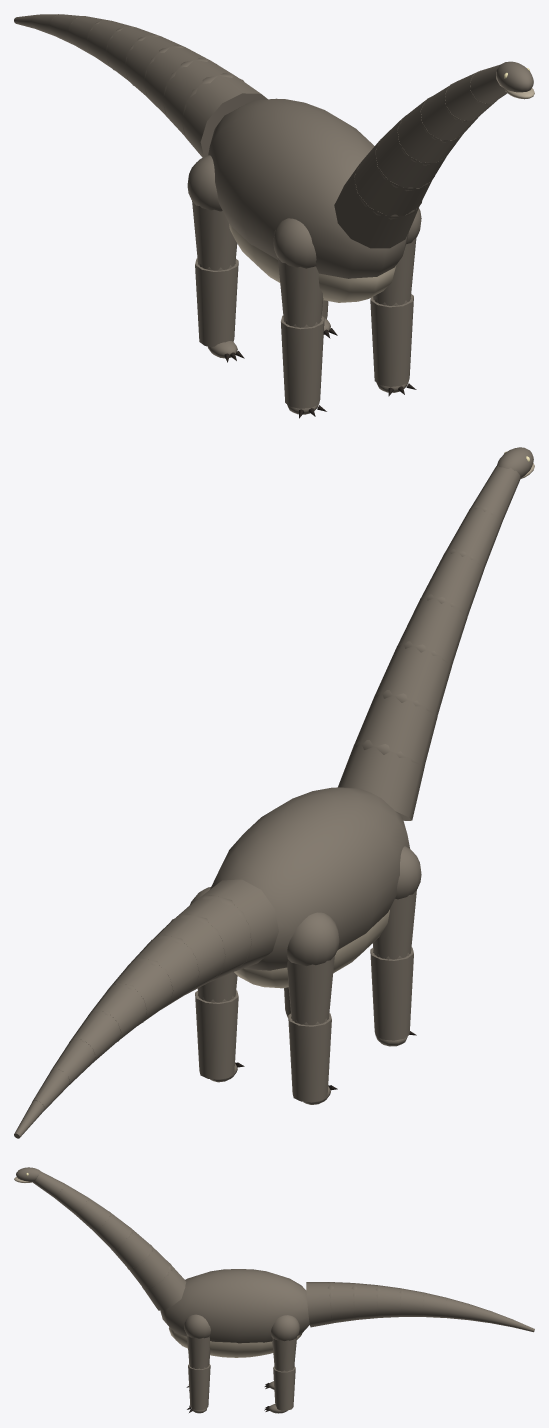
File: dino_titan.glb
3 views of the same model, one above another, from view 1: azimuth 30°, elevation 25°; view 2: azimuth 150°, elevation 25°; view 3: azimuth 270°, elevation 25° (orthographic). The views are drawn at different scales.
Parts seen in each view (by area): view 1: dino_hips, dino_legs_0_hip, dino_legs_2_hip, dino_legs_0_knee, dino_legs_1_knee, dino_tail_0_p, dino_legs_2_knee, dino_neck_0_p, dino_neck_1_p, dino_neck_2_p, dino_tail_1_p, dino_neck_3_p (+11 smaller); view 2: dino_hips, dino_legs_2_hip, dino_neck_1_p, dino_neck_0_p, dino_neck_2_p, dino_legs_0_knee, dino_legs_2_knee, dino_legs_3_knee, dino_neck_3_p, dino_legs_0_hip, dino_tail_0_p, dino_tail_1_p (+11 smaller); view 3: dino_hips, dino_legs_3_hip, dino_legs_1_hip, dino_tail_0_p, dino_neck_0_p, dino_neck_1_p, dino_tail_1_p, dino_legs_1_knee, dino_neck_2_p, dino_tail_2_p, dino_legs_3_knee, dino_neck_3_p (+8 smaller).
Part boxes in pixels (<box>): dino_hips: <box>208,98,408,302</box>; dino_legs_0_hip: <box>273,218,323,327</box>; dino_legs_2_hip: <box>187,155,237,270</box>; dino_legs_0_knee: <box>281,315,324,408</box>; dino_legs_1_knee: <box>370,294,413,386</box>; dino_tail_0_p: <box>181,75,267,157</box>; dino_legs_2_knee: <box>195,258,238,347</box>; dino_neck_0_p: <box>334,164,419,248</box>; dino_neck_1_p: <box>354,139,431,219</box>; dino_neck_2_p: <box>374,118,446,190</box>; dino_tail_1_p: <box>162,60,244,135</box>; dino_neck_3_p: <box>396,100,462,165</box>; dino_hips: <box>210,787,409,988</box>; dino_legs_2_hip: <box>287,912,339,1025</box>; dino_neck_1_p: <box>354,693,437,769</box>; dino_neck_0_p: <box>338,744,424,820</box>; dino_neck_2_p: <box>375,644,451,718</box>; dino_legs_0_knee: <box>370,947,413,1040</box>; dino_legs_2_knee: <box>288,1013,331,1102</box>; dino_legs_3_knee: <box>195,990,238,1079</box>; dino_neck_3_p: <box>398,596,467,668</box>; dino_legs_0_hip: <box>372,846,421,959</box>; dino_tail_0_p: <box>201,879,278,972</box>; dino_tail_1_p: <box>168,895,252,982</box>; dino_hips: <box>160,1269,309,1357</box>; dino_legs_3_hip: <box>271,1315,299,1371</box>; dino_legs_1_hip: <box>184,1314,210,1369</box>; dino_tail_0_p: <box>306,1282,333,1327</box>; dino_neck_0_p: <box>143,1266,186,1310</box>; dino_neck_1_p: <box>128,1247,172,1290</box>; dino_tail_1_p: <box>328,1282,355,1322</box>; dino_legs_1_knee: <box>188,1364,210,1410</box>; dino_neck_2_p: <box>111,1229,152,1269</box>; dino_tail_2_p: <box>351,1283,377,1319</box>; dino_legs_3_knee: <box>273,1366,295,1410</box>; dino_neck_3_p: <box>94,1212,132,1250</box>.
Size of the model in its own units: 3.86 by 11.77 by 23.87.
